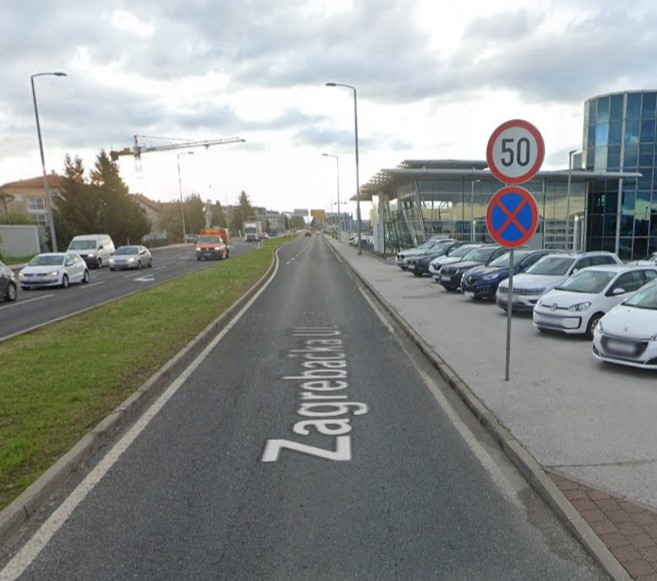Ograničenje brzine 50: (486, 119, 545, 184)
